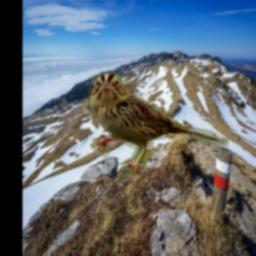Sparrow: (85, 73, 228, 177)
